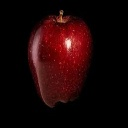apple: (25, 10, 94, 110)
